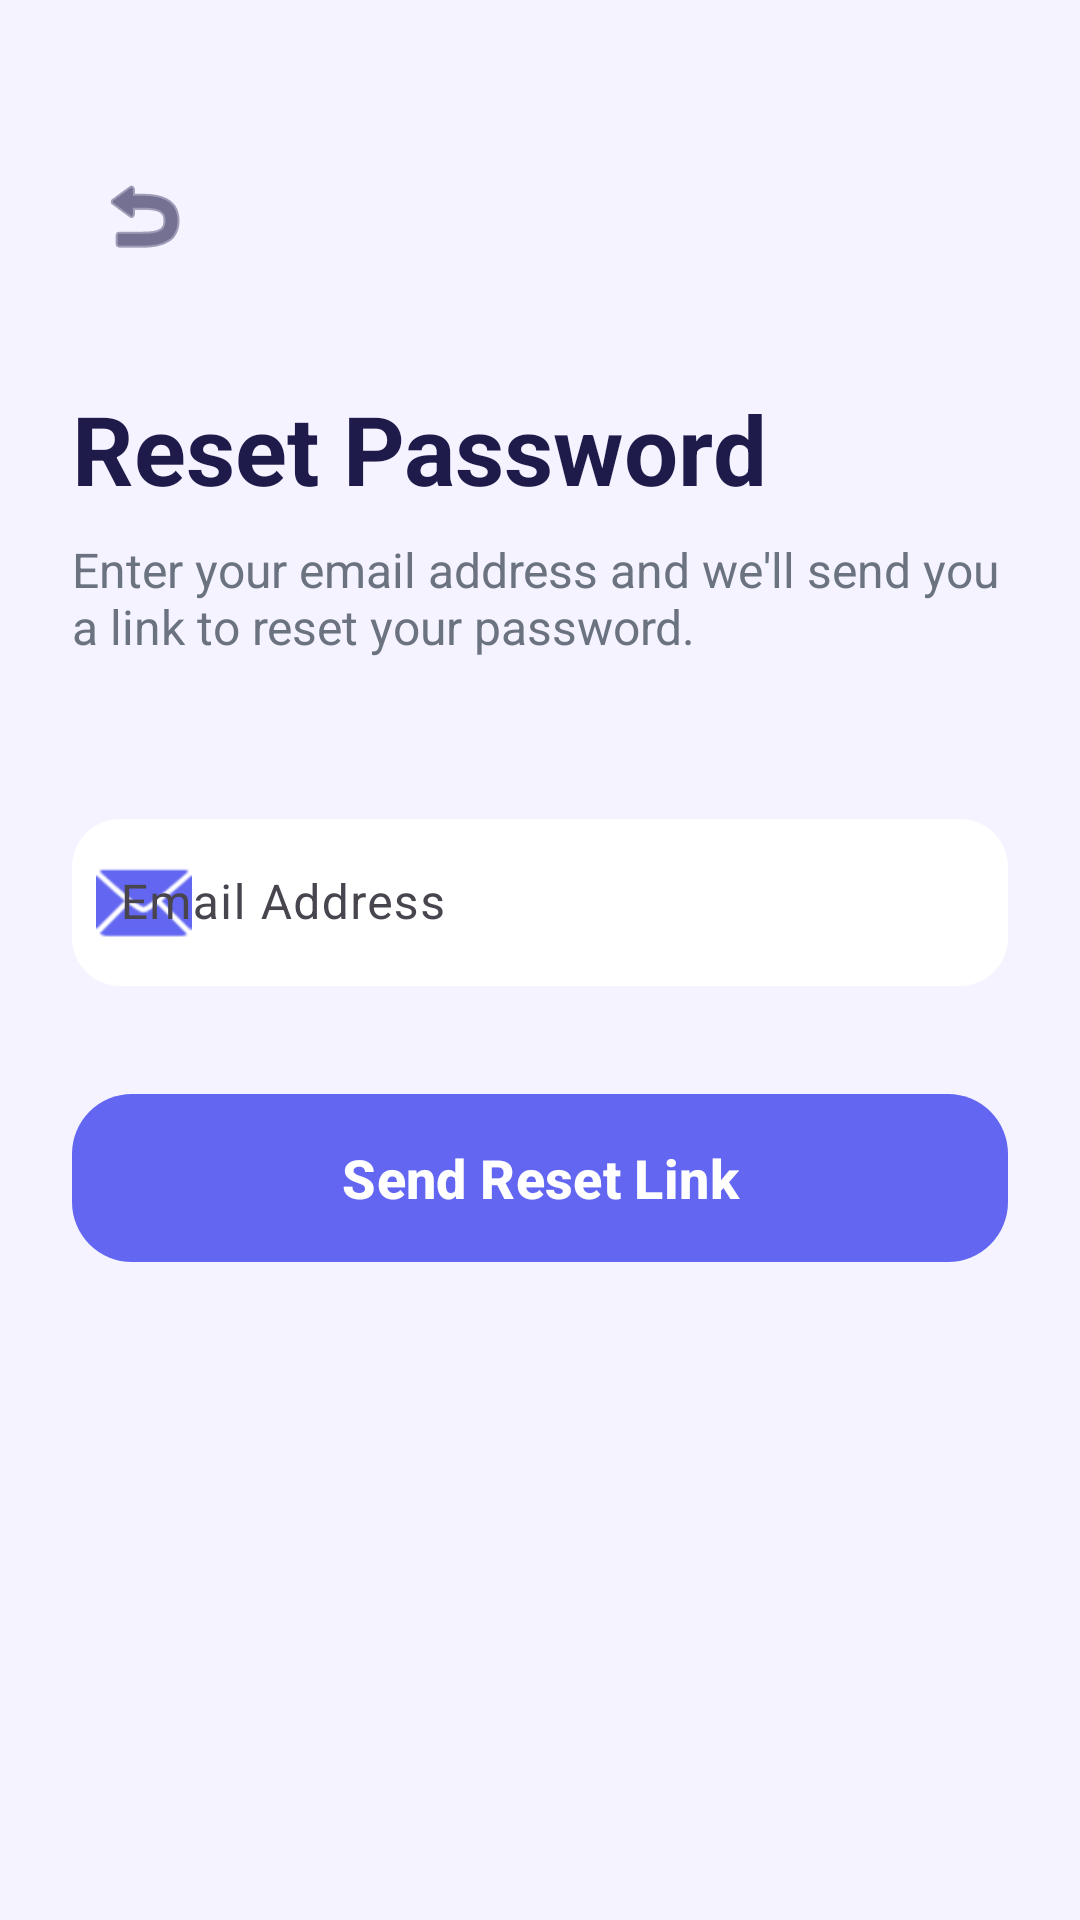

Where icons sit on this 1080 x 1920 app screen, as [x1,y1,x2,y2]:
revert: [111,185,180,248]
